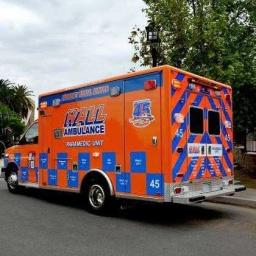Ambulance: (4, 66, 244, 210)
